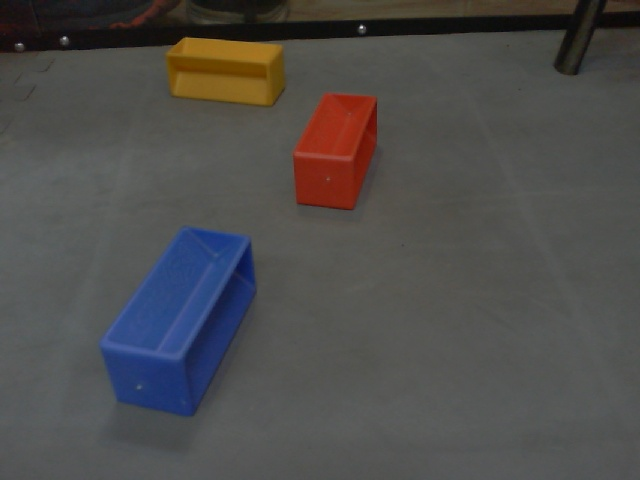BlueSample: (99, 223, 258, 421)
RedSample: (290, 92, 380, 213)
YellowSample: (163, 33, 284, 109)
